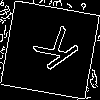K: (25, 25, 81, 78)
